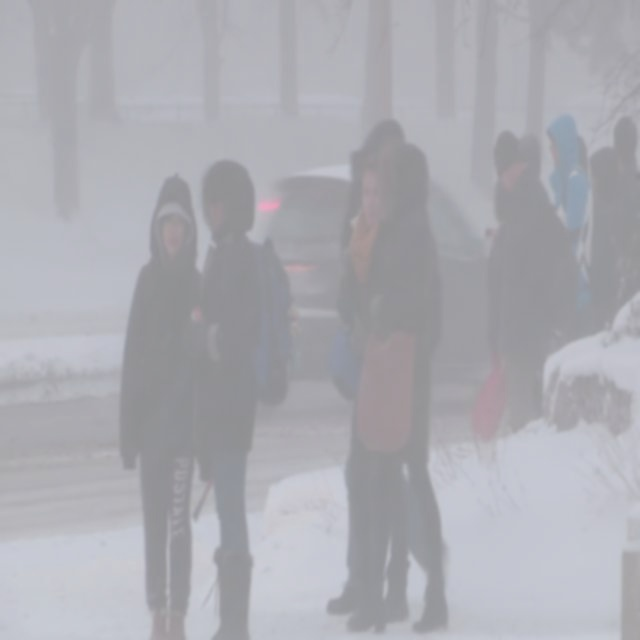pessoa: (189, 153, 293, 639), (340, 150, 448, 618), (111, 161, 212, 639), (338, 146, 415, 630), (544, 108, 640, 312), (486, 218, 507, 426), (518, 132, 551, 219), (354, 104, 410, 146), (516, 130, 542, 170)
